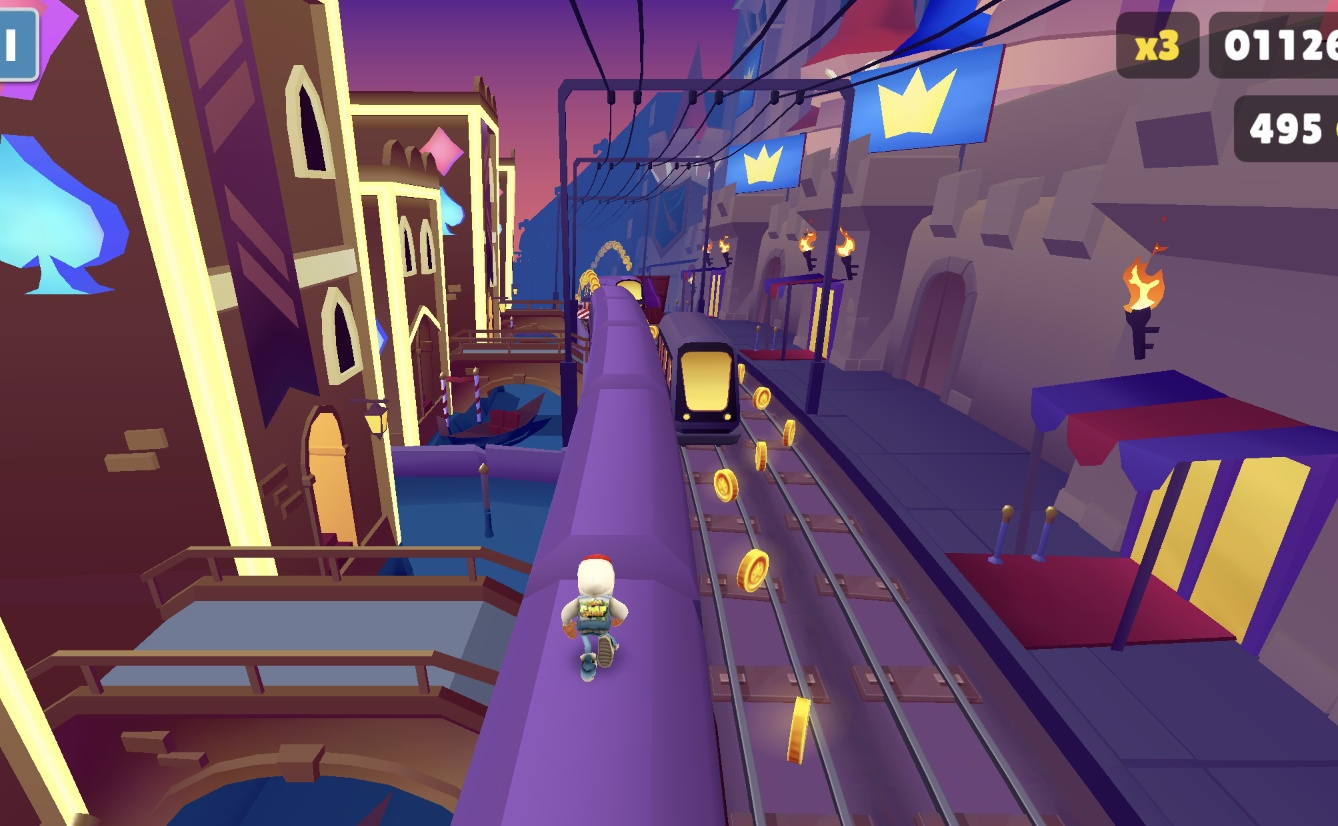train: (457, 297, 729, 826), (664, 339, 751, 442)
